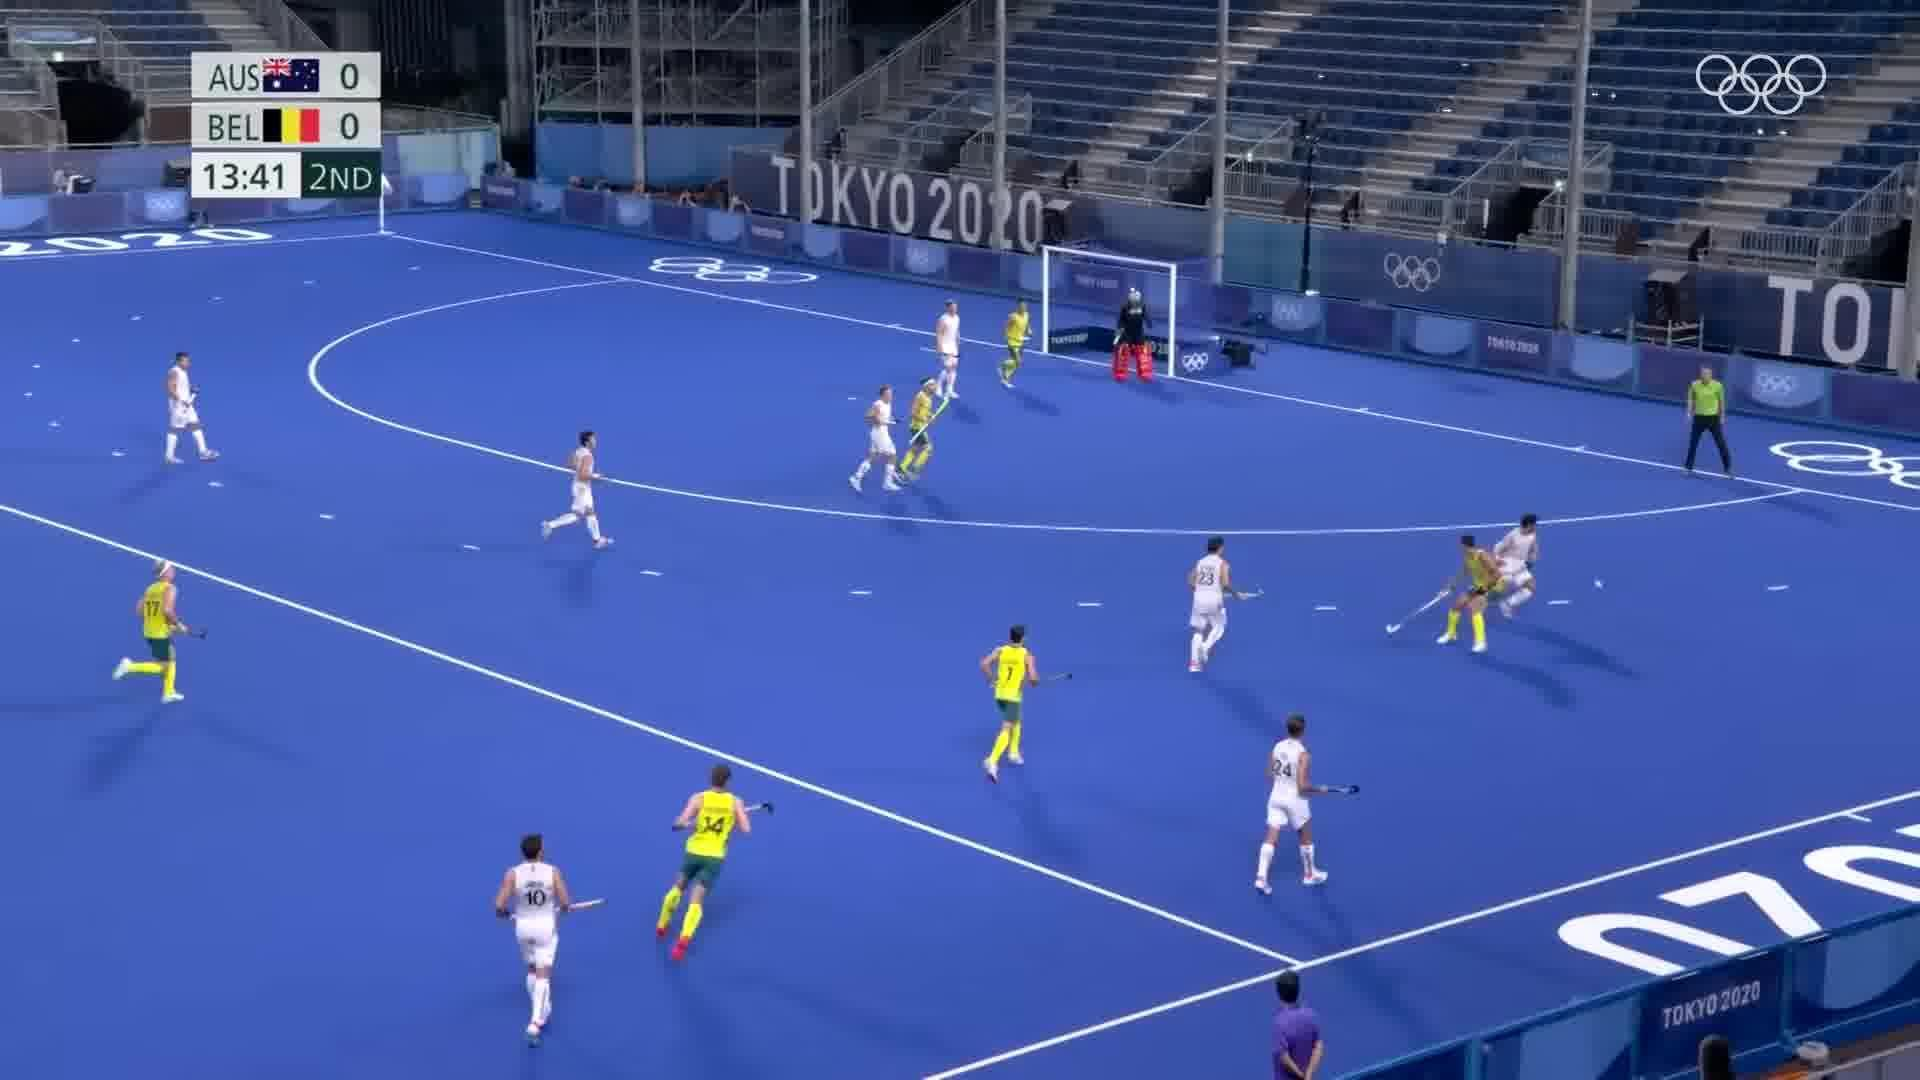ball: (1589, 574, 1609, 597)
